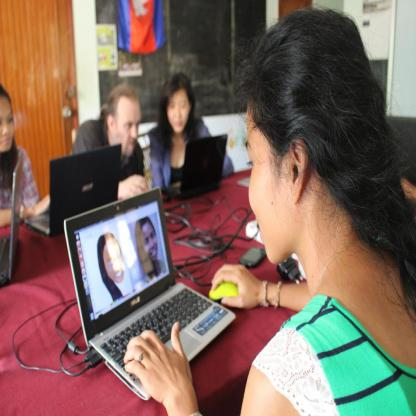board: (65, 190, 229, 397), (25, 145, 121, 237), (169, 136, 227, 200), (0, 154, 24, 285)
